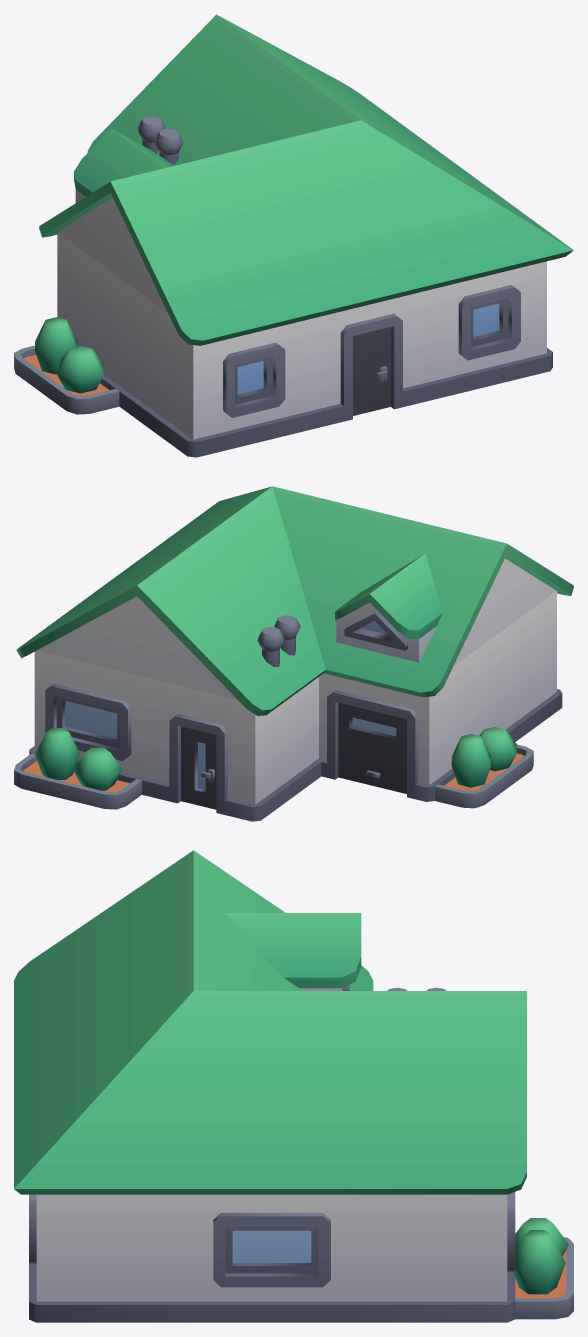
File: k-city-kit-suburban-building-type-m.glb
3 views of the same model, one above another, from view 1: azimuth 30°, elevation 25°; view 2: azimuth 150°, elevation 25°; view 3: azimuth 270°, elevation 25° (orthographic). The views are drawn at different scales.
Parts seen in each view (by area): view 1: building-type-m; view 2: building-type-m; view 3: building-type-m.
Part boxes in pixels (box(x1,y1,x2,y2)): building-type-m: box(14, 14, 573, 457); building-type-m: box(14, 486, 573, 821); building-type-m: box(14, 850, 573, 1322).
Size of the model in its own units: 1.43 by 0.7375 by 1.43.
1 material, 1 textured.
